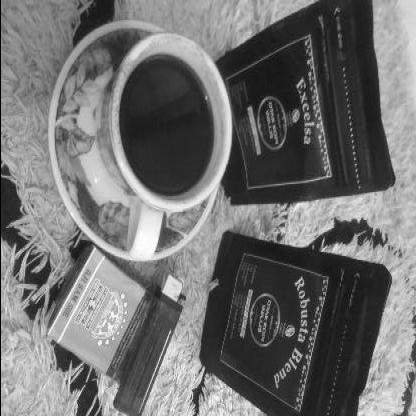objects: (45, 246, 150, 384)
